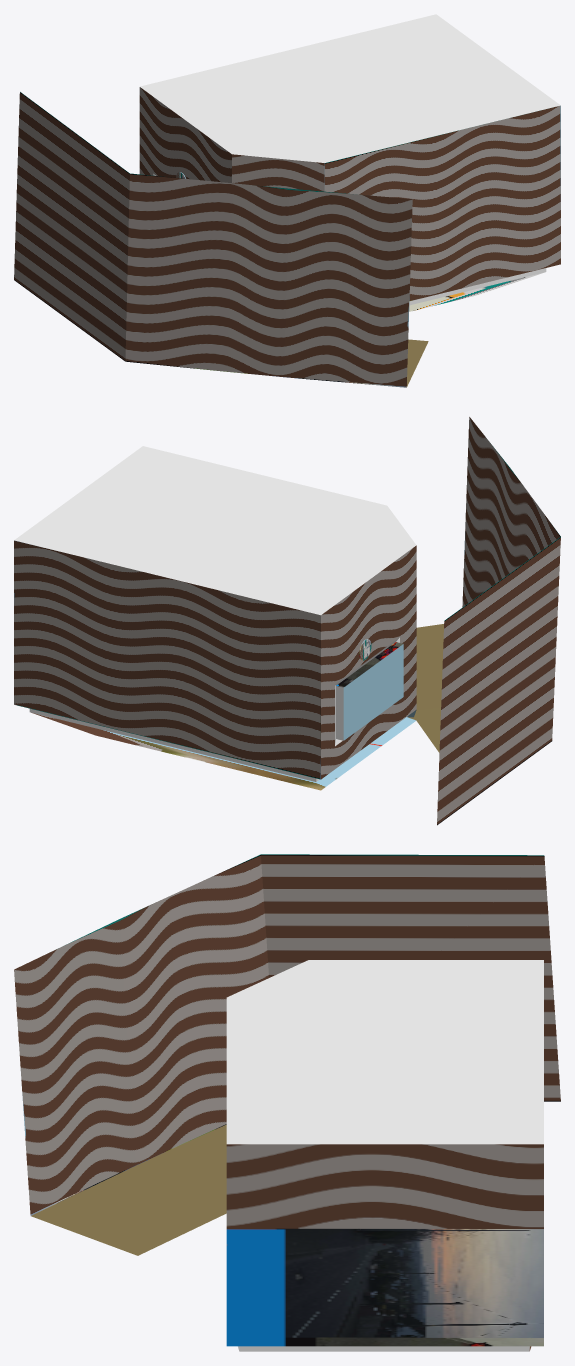
The model's file is nepobaby.glb.
3 views of the same model, one above another, from view 1: azimuth 30°, elevation 25°; view 2: azimuth 150°, elevation 25°; view 3: azimuth 270°, elevation 25° (orthographic). The views are drawn at different scales.
Parts seen in each view (by area): view 1: Cube; view 2: Cube; view 3: Cube.
Boxes of the visible parts, box(x1,y1,x2,y2) form: Cube: box(14, 14, 560, 387); Cube: box(14, 417, 560, 825); Cube: box(14, 854, 560, 1351).
Size of the model in its own units: 13.7 by 6.08 by 12.21.
Materials: 10 (7 with a texture image).
